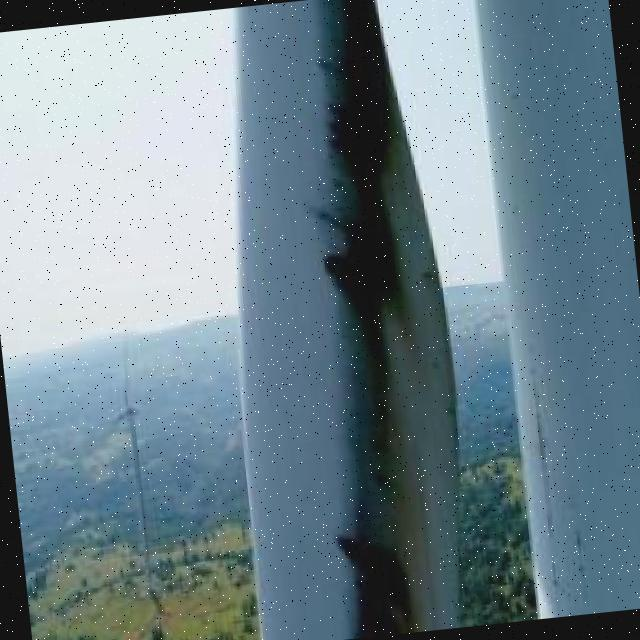Dirt: (310, 0, 467, 640)
Pin Hole: (314, 178, 348, 222), (333, 533, 363, 562), (318, 248, 344, 278), (421, 269, 437, 285), (430, 358, 444, 376), (444, 402, 459, 418)
